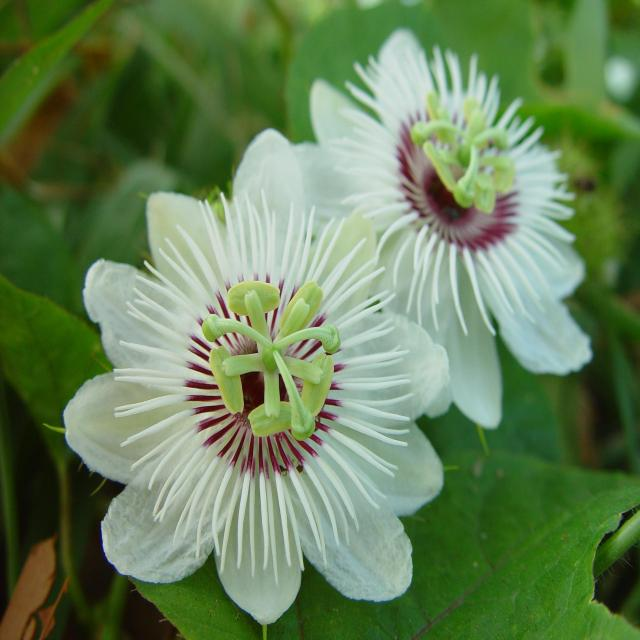organic waste: (62, 142, 444, 615), (294, 32, 612, 430)
